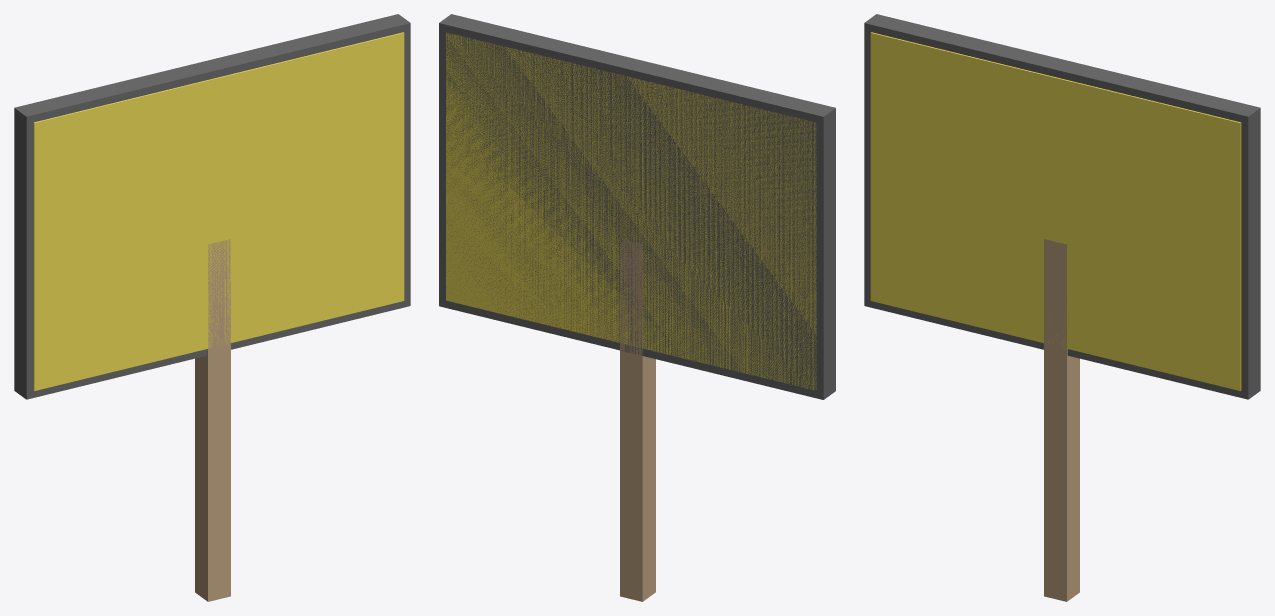
Rendered from sign.fbx.
3 views of the same model, side by side, from view 1: azimuth 30°, elevation 25°; view 2: azimuth 150°, elevation 25°; view 3: azimuth 330°, elevation 25° (orthographic).
Parts seen in each view (by area): view 1: Sign_Board, Sign_Trim, Sign_Post; view 2: Sign_Trim, Sign_Board, Sign_Post; view 3: Sign_Board, Sign_Trim, Sign_Post.
Part boxes in pixels (left/top/right/bottom): Sign_Board: left=33, top=32, right=404, bottom=390; Sign_Trim: left=14, top=14, right=410, bottom=399; Sign_Post: left=195, top=239, right=230, bottom=601; Sign_Trim: left=439, top=14, right=835, bottom=399; Sign_Board: left=446, top=33, right=816, bottom=390; Sign_Post: left=620, top=238, right=655, bottom=601; Sign_Board: left=870, top=32, right=1241, bottom=390; Sign_Trim: left=864, top=14, right=1260, bottom=399; Sign_Post: left=1044, top=239, right=1079, bottom=601.
Bounding box in the file's own units: 2.7 × 3.55 × 0.16.
